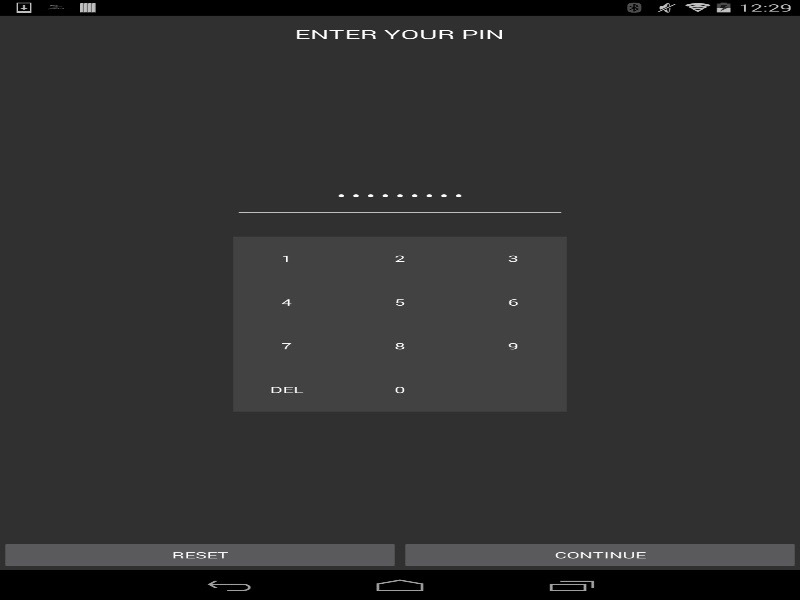Button: (0, 540, 400, 570), (400, 540, 800, 570)
Input: (233, 174, 566, 217)
